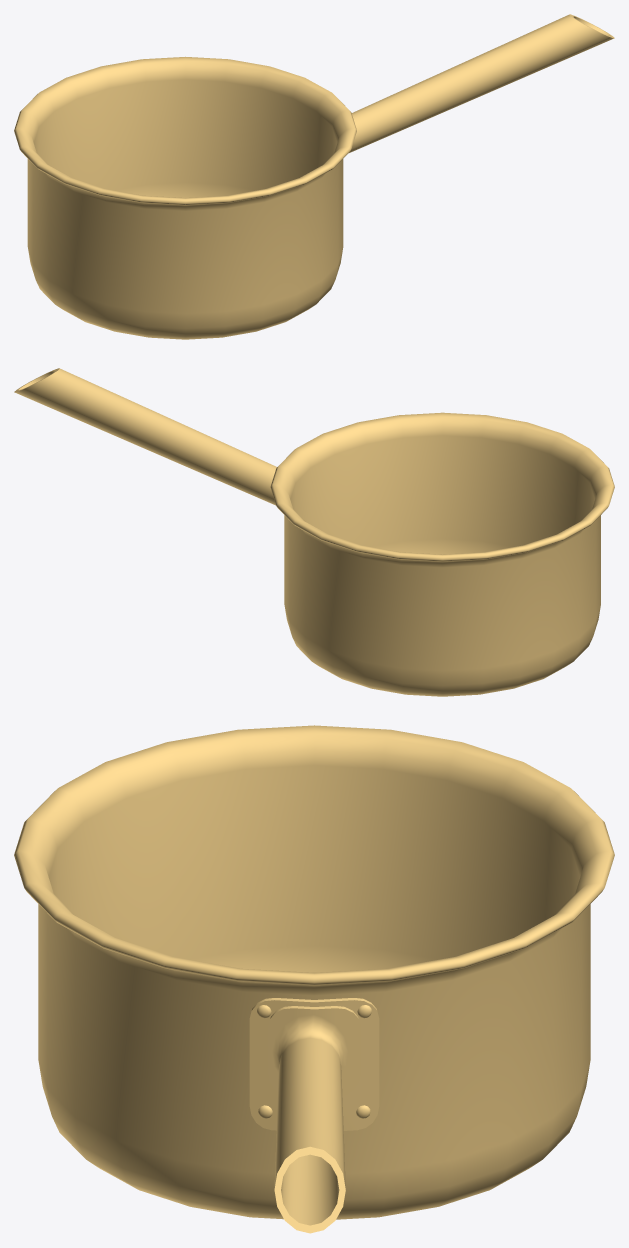
The model's file is SM_Pot_Small_01.fbx.
The picture shows the model from 3 angles, top to bottom: view 1: azimuth 30°, elevation 25°; view 2: azimuth 150°, elevation 25°; view 3: azimuth 270°, elevation 25°; orthographic projection. The views are drawn at different scales.
Parts seen in each view (by area): view 1: SM_Pot_Small_01; view 2: SM_Pot_Small_01; view 3: SM_Pot_Small_01.
Boxes of the visible parts, left/top/right/bottom form: SM_Pot_Small_01: left=14, top=14, right=614, bottom=339; SM_Pot_Small_01: left=14, top=368, right=614, bottom=696; SM_Pot_Small_01: left=14, top=725, right=614, bottom=1233.
Size of the model in its own units: 57.93 by 16.64 by 29.97.
